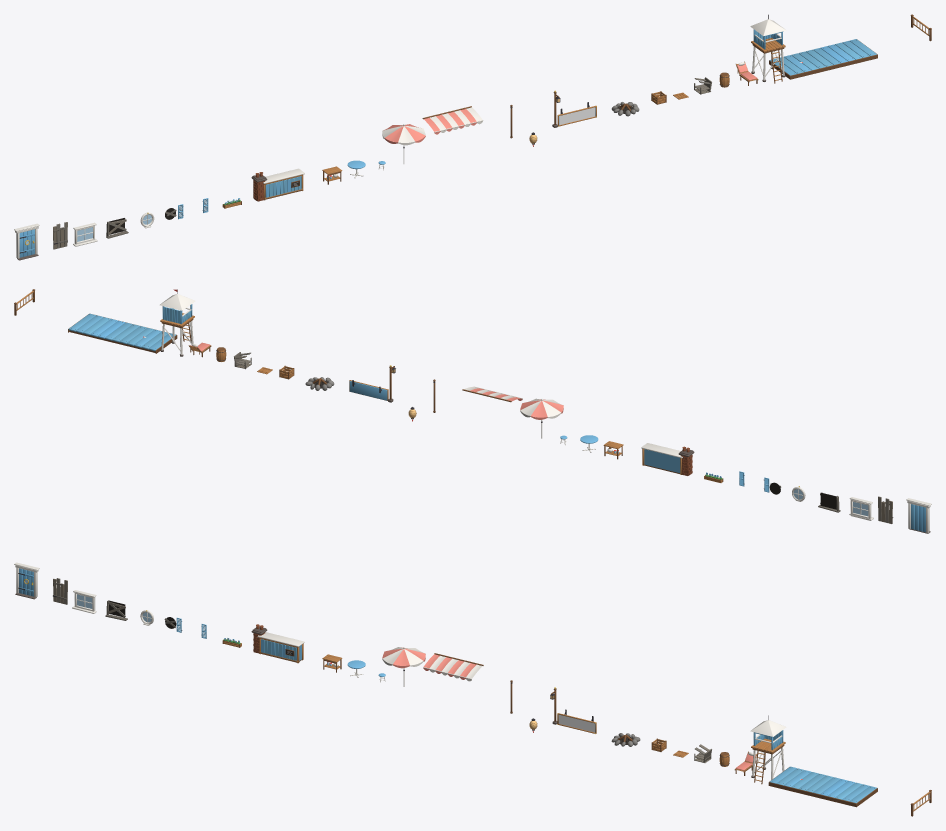
The model's file is buildings.glb.
The picture shows the model from 3 angles, top to bottom: view 1: azimuth 30°, elevation 25°; view 2: azimuth 150°, elevation 25°; view 3: azimuth 330°, elevation 25°; orthographic projection.
Visible parts, largest first — view 1: prop_deck, prop_tower, prop_awning, prop_counter, prop_parasol, bld_door, prop_sign; view 2: prop_deck, prop_tower, prop_counter, prop_parasol, bld_door; view 3: prop_deck, prop_tower, prop_counter, prop_awning, prop_parasol, bld_door.
Boxes of the visible parts, x1,y1,x2,y2 form: prop_deck: [769, 39, 877, 79]; prop_tower: [750, 14, 786, 83]; prop_awning: [422, 106, 483, 134]; prop_counter: [263, 168, 304, 200]; prop_parasol: [382, 124, 425, 163]; bld_door: [14, 223, 39, 260]; prop_sign: [557, 102, 596, 126]; prop_deck: [68, 313, 177, 353]; prop_tower: [159, 289, 195, 356]; prop_counter: [641, 443, 682, 474]; prop_parasol: [520, 398, 563, 438]; bld_door: [906, 498, 931, 533]; prop_deck: [768, 766, 877, 807]; prop_tower: [750, 715, 786, 784]; prop_counter: [257, 632, 304, 663]; prop_awning: [423, 653, 483, 681]; prop_parasol: [382, 647, 425, 686]; bld_door: [14, 562, 39, 599].
Bounding box in the file's own units: 74.67 × 5.89 × 3.25.
